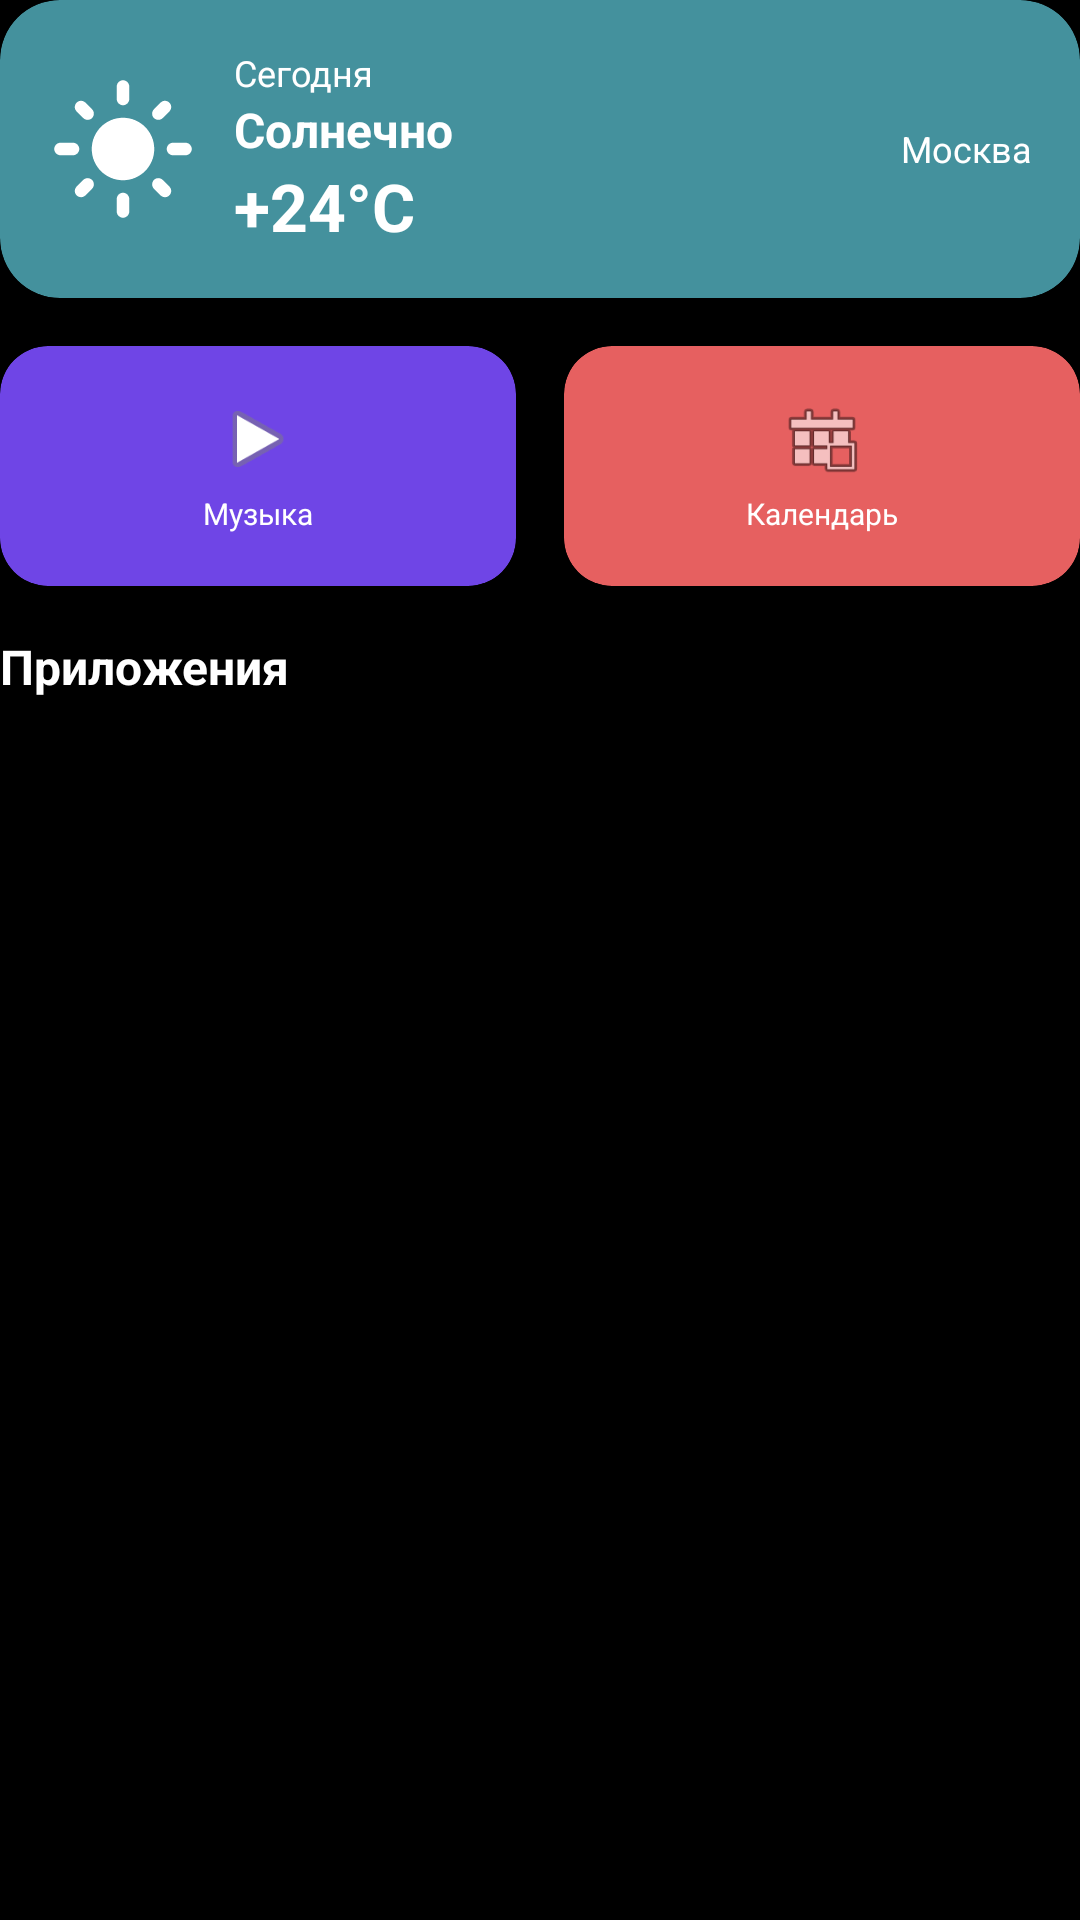

Screen size 1080×1920. Icon name, then its box in pixels as (x1, y1, x2, y2):
play: (233, 411, 283, 467)
today: (788, 408, 857, 472)
weather sunny: (54, 80, 192, 218)
